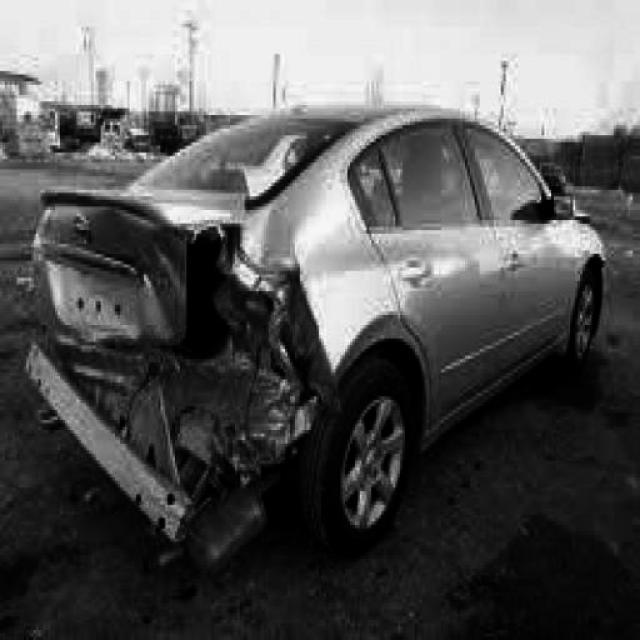car damage: (22, 206, 346, 537)
